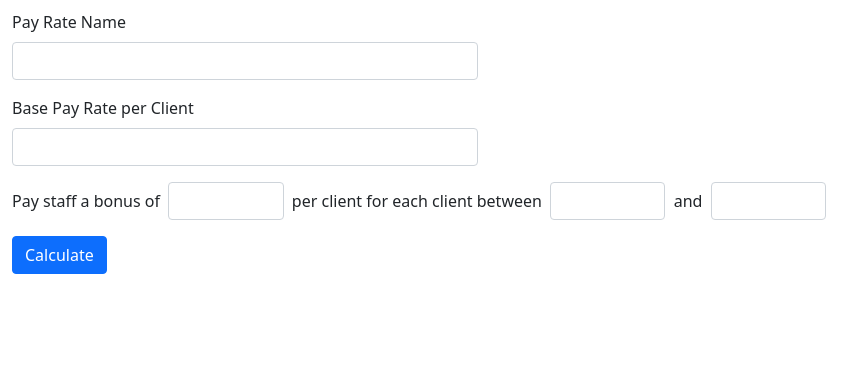
Test: CalculatorForm › minClients field validations › renders error message when field value is filled with a negative number
Type "-5" into the number field with test id "minClients".
click(608, 201); type("-5")  # box [550,182,665,220]
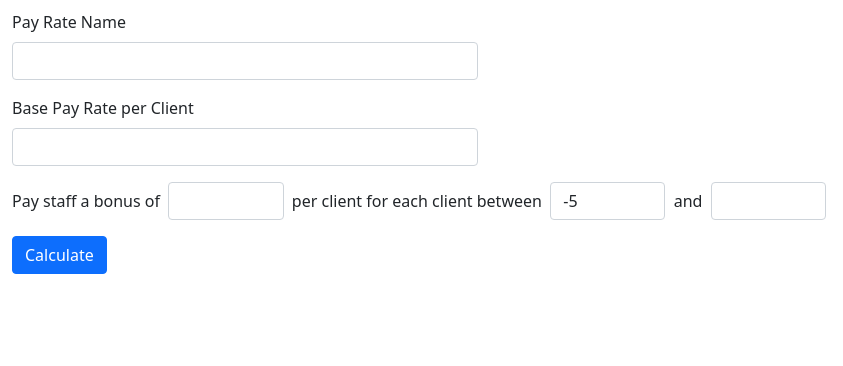
Submit the form from the button, box [12,236,107,274]
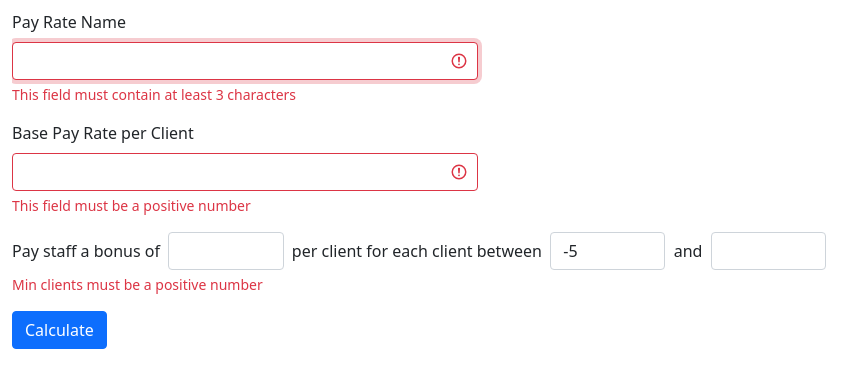
Result: the text "Min clients must be a positive number" is shown at [12,275,263,294]
